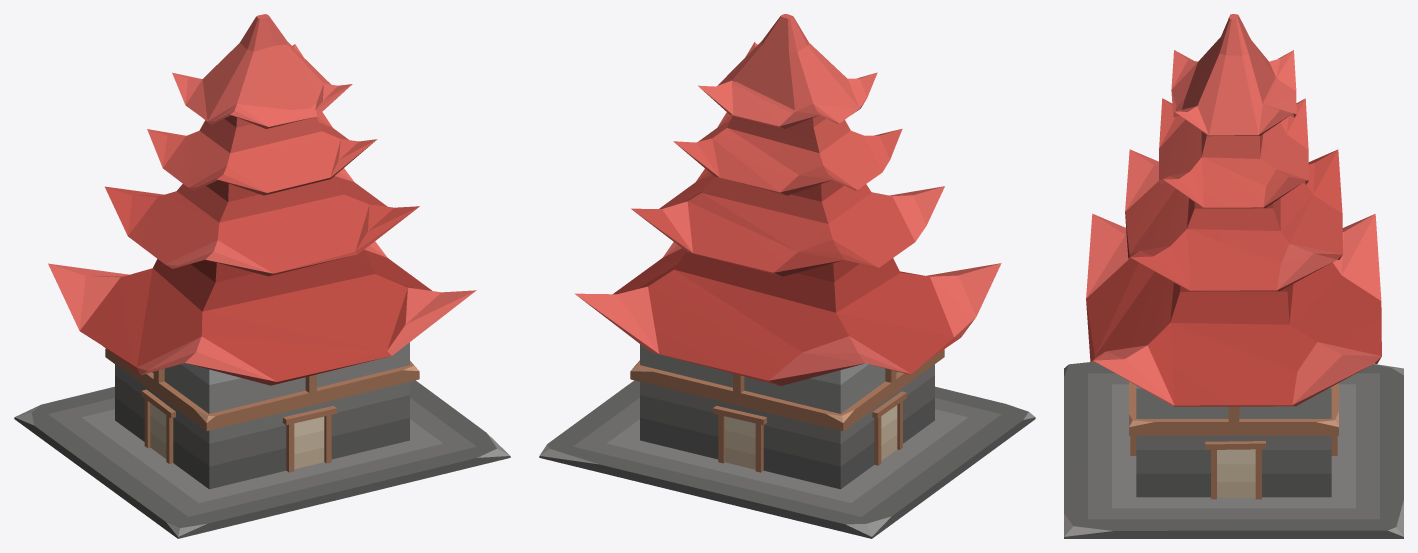
File: building_1.fbx
3 views of the same model, side by side, from view 1: azimuth 30°, elevation 25°; view 2: azimuth 150°, elevation 25°; view 3: azimuth 270°, elevation 25° (orthographic). The views are drawn at different scales.
Visible parts, largest first — view 1: building_1; view 2: building_1; view 3: building_1.
Part boxes in pixels (bbox=[...]): building_1: bbox=[14, 14, 510, 538]; building_1: bbox=[539, 14, 1035, 538]; building_1: bbox=[1064, 14, 1403, 538].
Size of the model in its own units: 1537 by 1865 by 1310.
